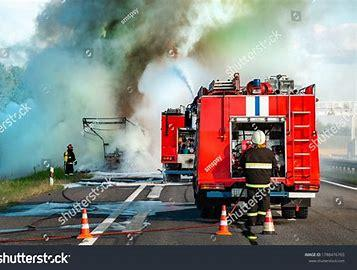Fire-engine: (159, 72, 320, 221)
